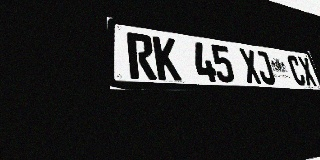4: (191, 41, 218, 82)
5: (210, 44, 236, 83)
C: (286, 55, 307, 86)
J: (253, 50, 276, 84)
K: (152, 36, 181, 81)
R: (126, 32, 157, 80)
X: (238, 48, 262, 84), (297, 56, 317, 86)
